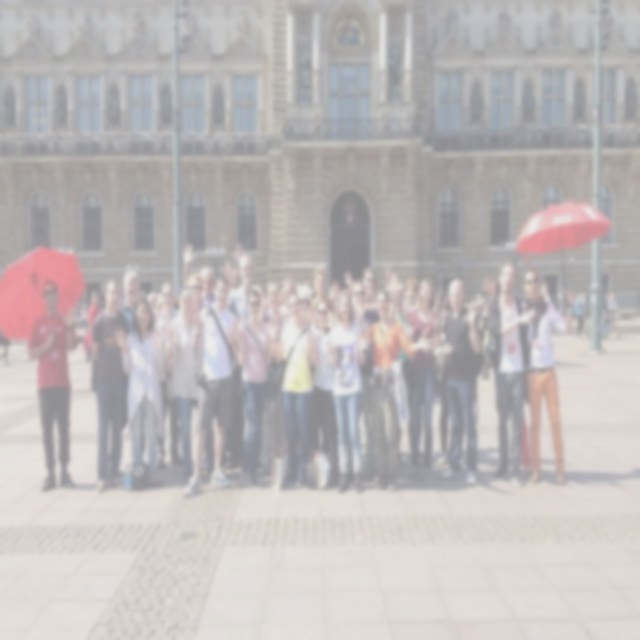pessoa: (479, 264, 577, 488), (328, 267, 400, 488), (362, 286, 436, 494), (180, 272, 243, 499), (25, 276, 81, 494), (486, 259, 538, 489), (264, 286, 322, 492), (321, 286, 374, 496), (162, 286, 216, 486), (114, 295, 167, 492), (437, 273, 485, 489), (452, 444, 639, 496), (235, 285, 282, 490), (90, 278, 130, 496), (225, 252, 265, 468), (426, 280, 508, 384), (404, 274, 444, 482), (434, 282, 478, 470), (383, 280, 424, 468), (150, 278, 186, 470), (310, 295, 342, 490), (118, 270, 148, 470), (258, 278, 288, 476), (400, 274, 420, 462), (180, 240, 218, 308), (292, 276, 342, 320), (118, 274, 168, 318), (554, 285, 592, 332), (174, 270, 206, 323), (513, 67, 538, 131), (206, 67, 229, 128), (568, 70, 591, 131), (101, 70, 122, 136), (462, 68, 485, 128), (88, 290, 101, 394), (221, 240, 247, 290), (156, 72, 177, 130), (358, 264, 381, 312), (334, 14, 366, 46), (310, 264, 330, 312), (280, 275, 301, 320), (51, 88, 71, 134), (387, 282, 418, 311), (576, 286, 592, 342), (298, 38, 314, 92), (622, 76, 638, 130), (0, 324, 17, 374), (388, 38, 406, 83), (570, 288, 585, 338), (606, 290, 620, 340), (75, 294, 94, 329), (600, 288, 612, 340)
